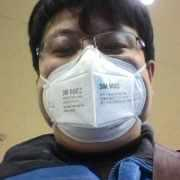OK: (33, 28, 158, 153)
